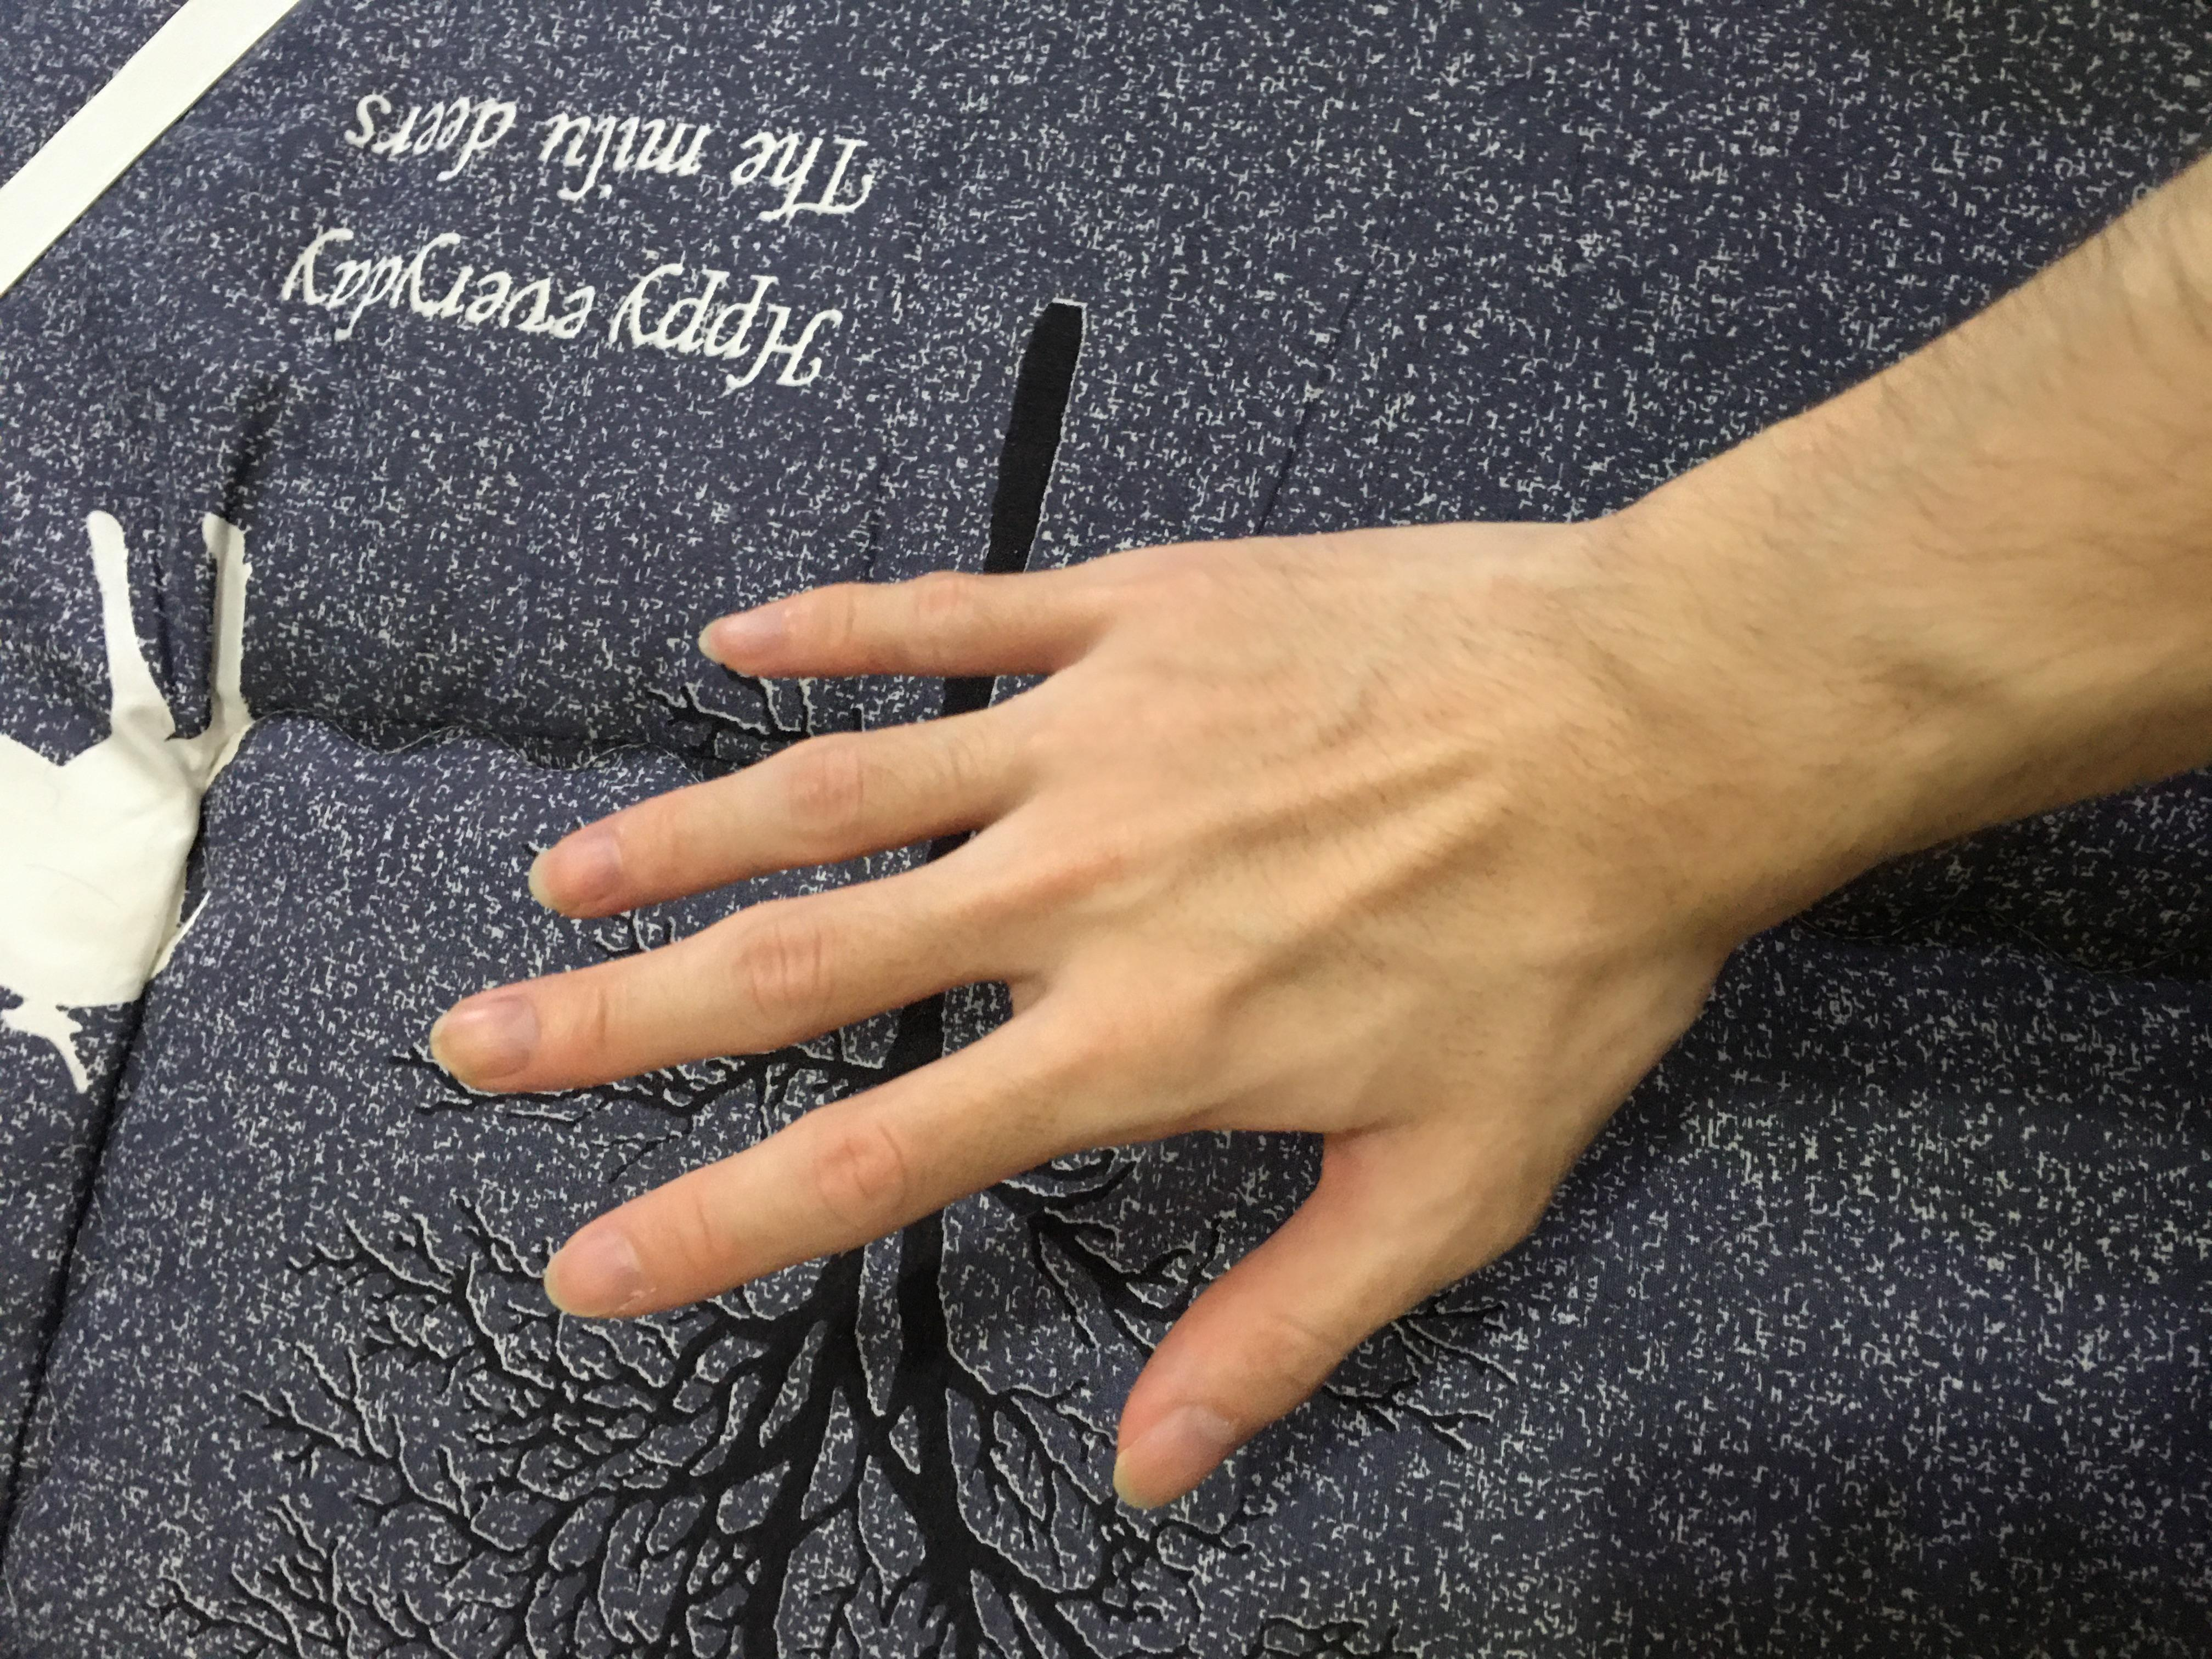hand: (197, 317, 1531, 1246)
